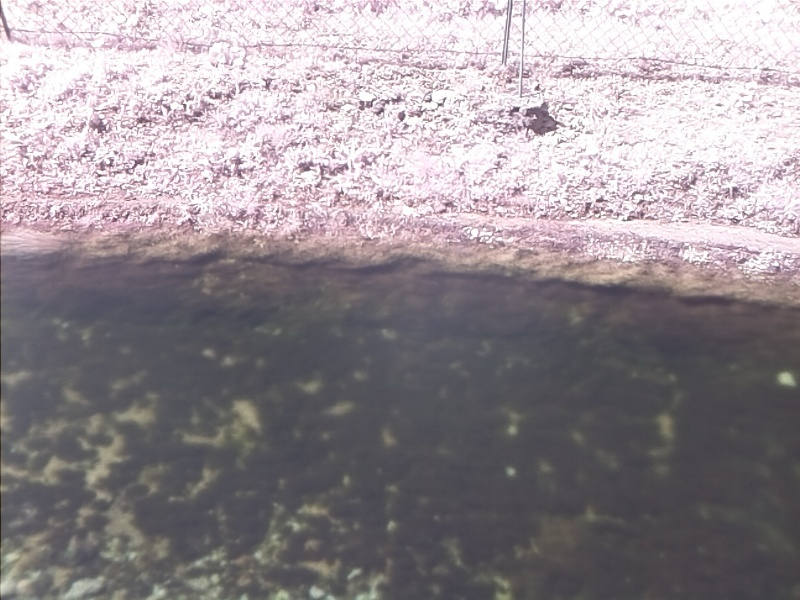Water: (2, 221, 799, 600)
